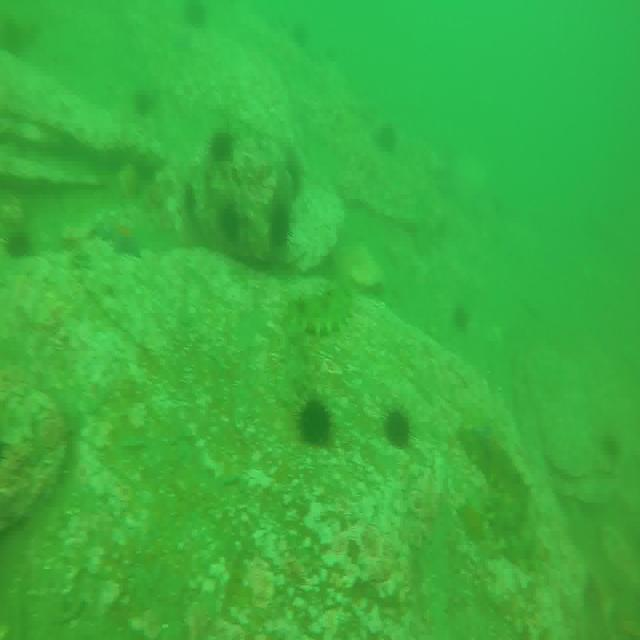echinus: (297, 399, 332, 450), (384, 404, 411, 449), (270, 192, 291, 249), (211, 127, 238, 166), (219, 200, 241, 240), (132, 79, 152, 118), (10, 224, 28, 263), (378, 115, 394, 153), (452, 304, 471, 329)
holothurian: (458, 419, 532, 554), (292, 284, 351, 336)
starfish: (100, 220, 142, 260)
